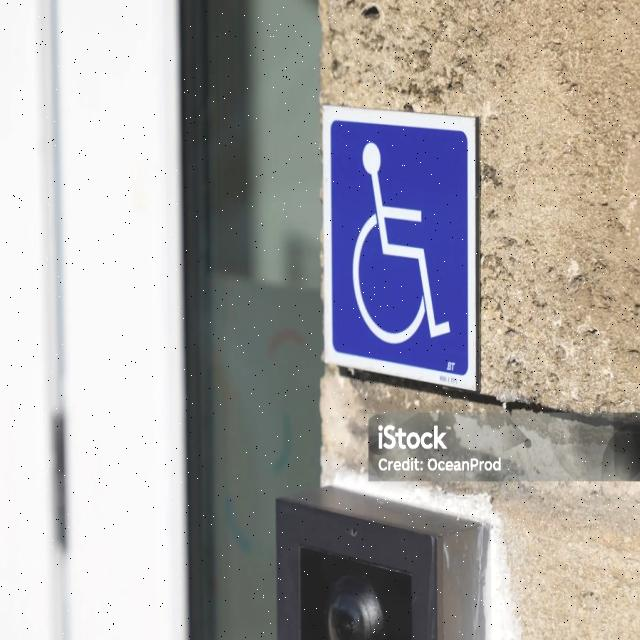symbol_of_access: (318, 102, 482, 397)
